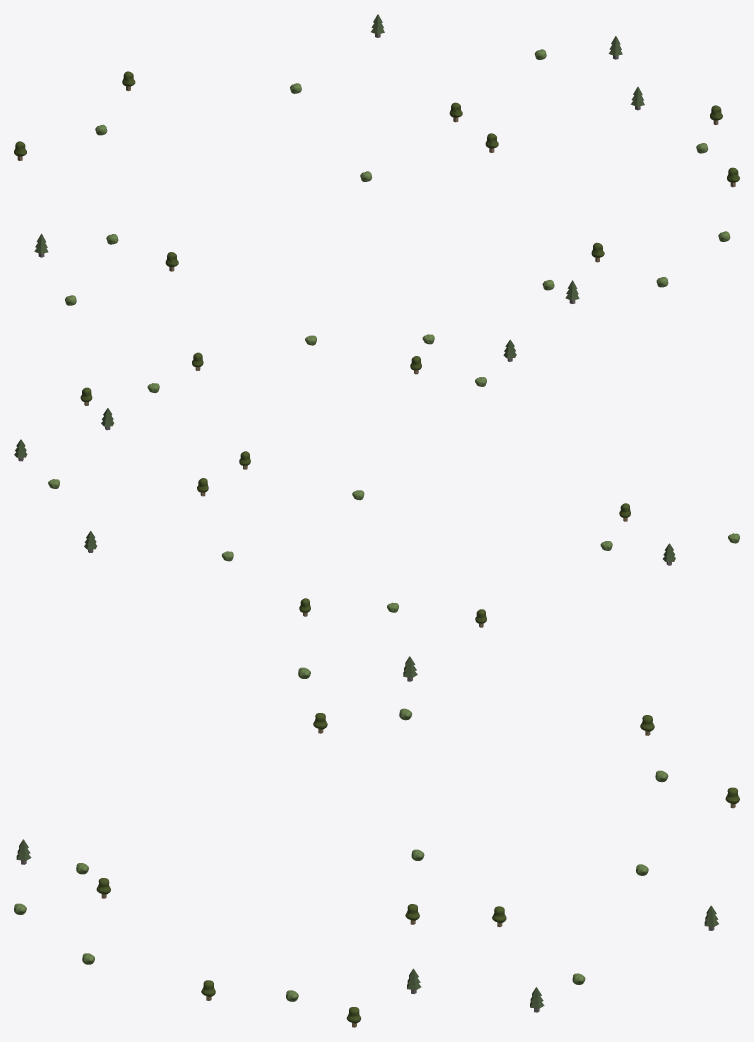
The model's file is piso final nivel 1 arboles.fbx.
3 views of the same model, one above another, from view 1: azimuth 30°, elevation 25°; view 2: azimuth 150°, elevation 25°; view 3: azimuth 270°, elevation 25° (orthographic). The views are drawn at different scales.
Parts seen in each view (by area): view 1: arbol.002; view 2: arbol.002; view 3: arbol.002.
Part boxes in pixels (box(x1,y1,x2,y2)): arbol.002: box(14, 14, 739, 305); arbol.002: box(14, 334, 739, 627); arbol.002: box(14, 656, 739, 1027).
Bounding box in the file's own units: 14439 × 605 × 12482.
